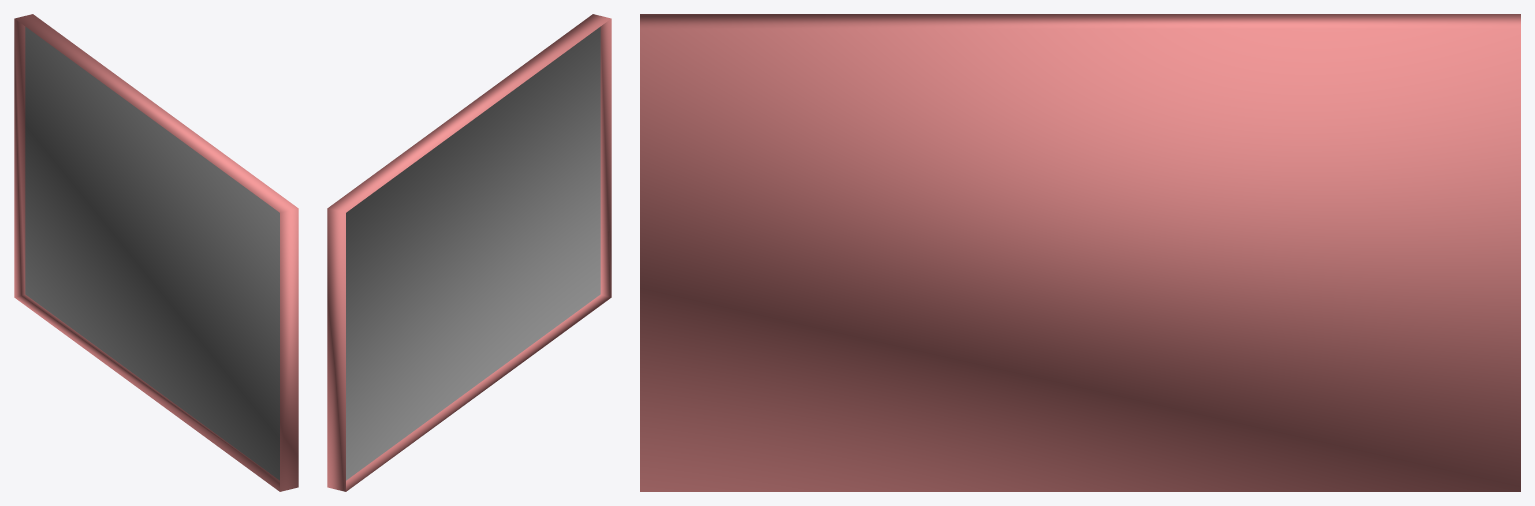
The model's file is whiteboard.fbx.
3 renders of one model, left to right at view 1: azimuth 30°, elevation 25°; view 2: azimuth 150°, elevation 25°; view 3: azimuth 270°, elevation 25°, orthographic. The views are drawn at different scales.
Parts seen in each view (by area): view 1: whiteboard; view 2: whiteboard; view 3: whiteboard.
Part boxes in pixels (<box>): whiteboard: <box>14,14,298,491</box>; whiteboard: <box>327,14,611,491</box>; whiteboard: <box>640,14,1520,491</box>.
Bounding box in the file's own units: 16.13 × 232 × 401.
